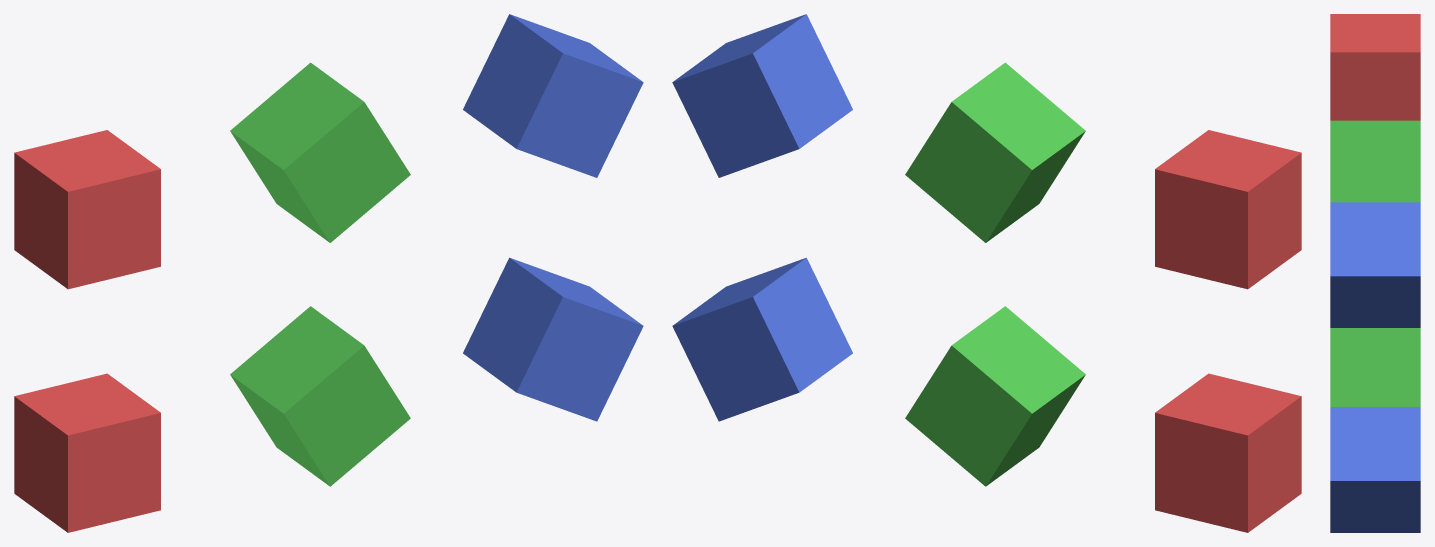
File: baked-boxes.glb
3 renders of one model, left to right at view 1: azimuth 30°, elevation 25°; view 2: azimuth 150°, elevation 25°; view 3: azimuth 270°, elevation 25°, orthographic. The views are drawn at different scales.
Parts seen in each view (by area): view 1: baked_node_0, baked_node_3, baked_node_1, baked_node_4, baked_node_5, baked_node_2; view 2: baked_node_0, baked_node_3, baked_node_1, baked_node_4, baked_node_5, baked_node_2; view 3: baked_node_2, baked_node_5, baked_node_3, baked_node_4, baked_node_1.
Boxes of the visible parts, x1,y1,x2,y2 form: baked_node_0: [14, 373, 160, 532]; baked_node_3: [14, 130, 160, 289]; baked_node_1: [230, 306, 410, 486]; baked_node_4: [230, 62, 410, 242]; baked_node_5: [463, 14, 643, 177]; baked_node_2: [463, 257, 643, 421]; baked_node_0: [1155, 373, 1301, 532]; baked_node_3: [1155, 130, 1301, 289]; baked_node_1: [905, 306, 1085, 486]; baked_node_4: [905, 62, 1085, 242]; baked_node_5: [672, 14, 852, 177]; baked_node_2: [672, 257, 852, 421]; baked_node_2: [1330, 407, 1420, 532]; baked_node_5: [1330, 202, 1420, 327]; baked_node_3: [1330, 14, 1420, 120]; baked_node_4: [1330, 120, 1420, 202]; baked_node_1: [1330, 328, 1420, 406].
Size of the model in its own units: 6.18 by 3.87 by 1.
